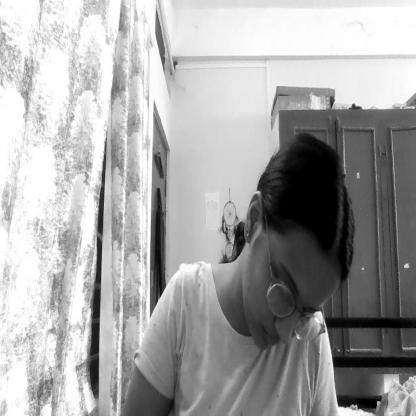Distracted: (254, 177, 324, 357)
